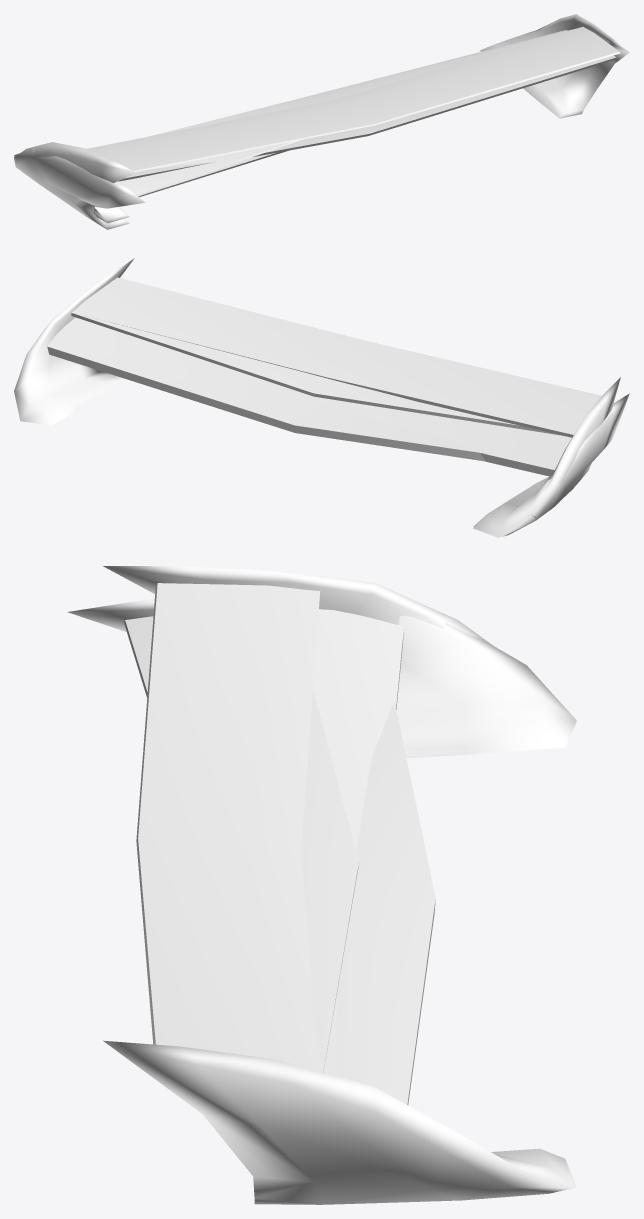
Rendered from spl_a_l_b.glb.
The picture shows the model from 3 angles, top to bottom: view 1: azimuth 30°, elevation 25°; view 2: azimuth 150°, elevation 25°; view 3: azimuth 270°, elevation 25°; orthographic projection. The views are drawn at different scales.
Visible parts, largest first — view 1: spl_a_l_b, spl_a_l_b_dam; view 2: spl_a_l_b, spl_a_l_b_dam; view 3: spl_a_l_b, spl_a_l_b_dam.
Boxes of the visible parts, x1,y1,x2,y2 form: spl_a_l_b: (14,14,629,229); spl_a_l_b_dam: (14,26,583,223); spl_a_l_b: (14,258,620,537); spl_a_l_b_dam: (47,312,629,536); spl_a_l_b: (103,566,576,1204); spl_a_l_b_dam: (67,598,575,1104).
Size of the model in its own units: 1.85 by 0.2863 by 0.7664.
Materials: 1 (1 with a texture image).
